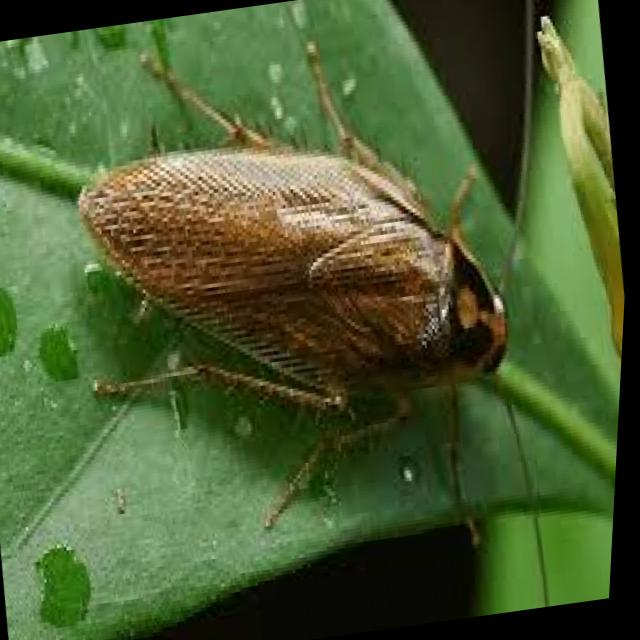Cockroach: (23, 0, 614, 640)
